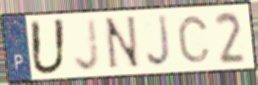2: (213, 10, 248, 66)
C: (176, 14, 212, 65)
J: (72, 17, 102, 73), (145, 12, 173, 69)
N: (103, 14, 143, 73)
U: (28, 18, 68, 78)
